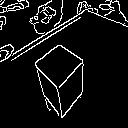cube: (31, 36, 92, 118)
